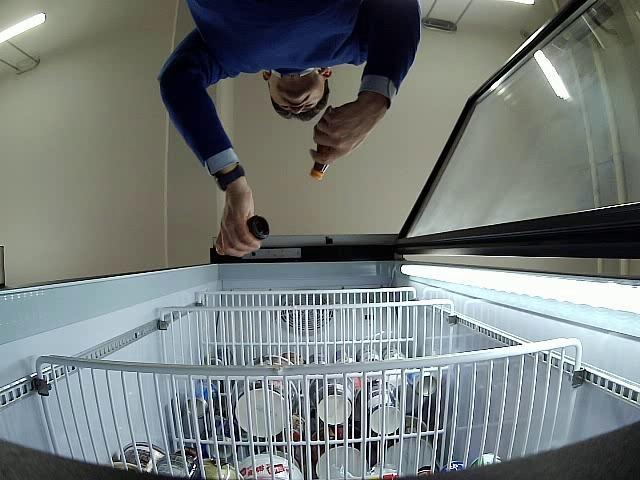17_vita500: (216, 215, 272, 255), (310, 161, 328, 180)
